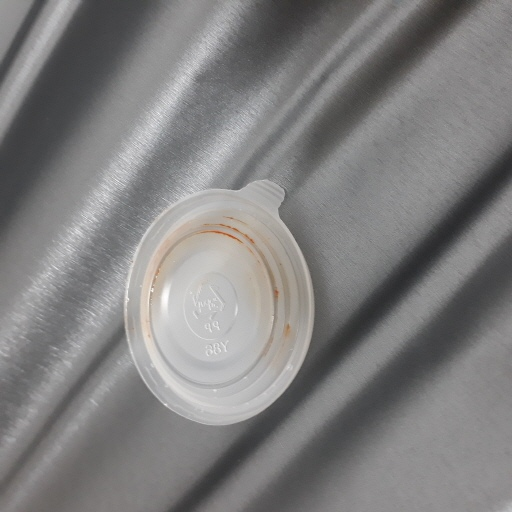Plastic_5: (119, 175, 318, 428)
